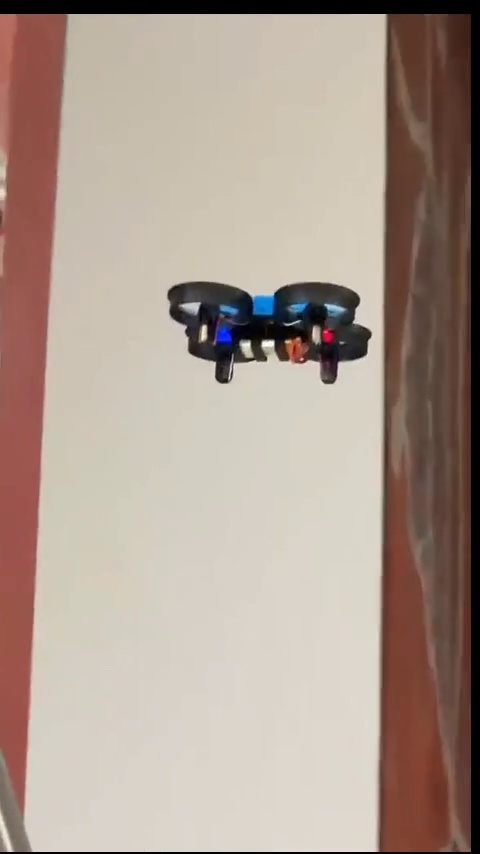drone: (167, 283, 372, 385)
